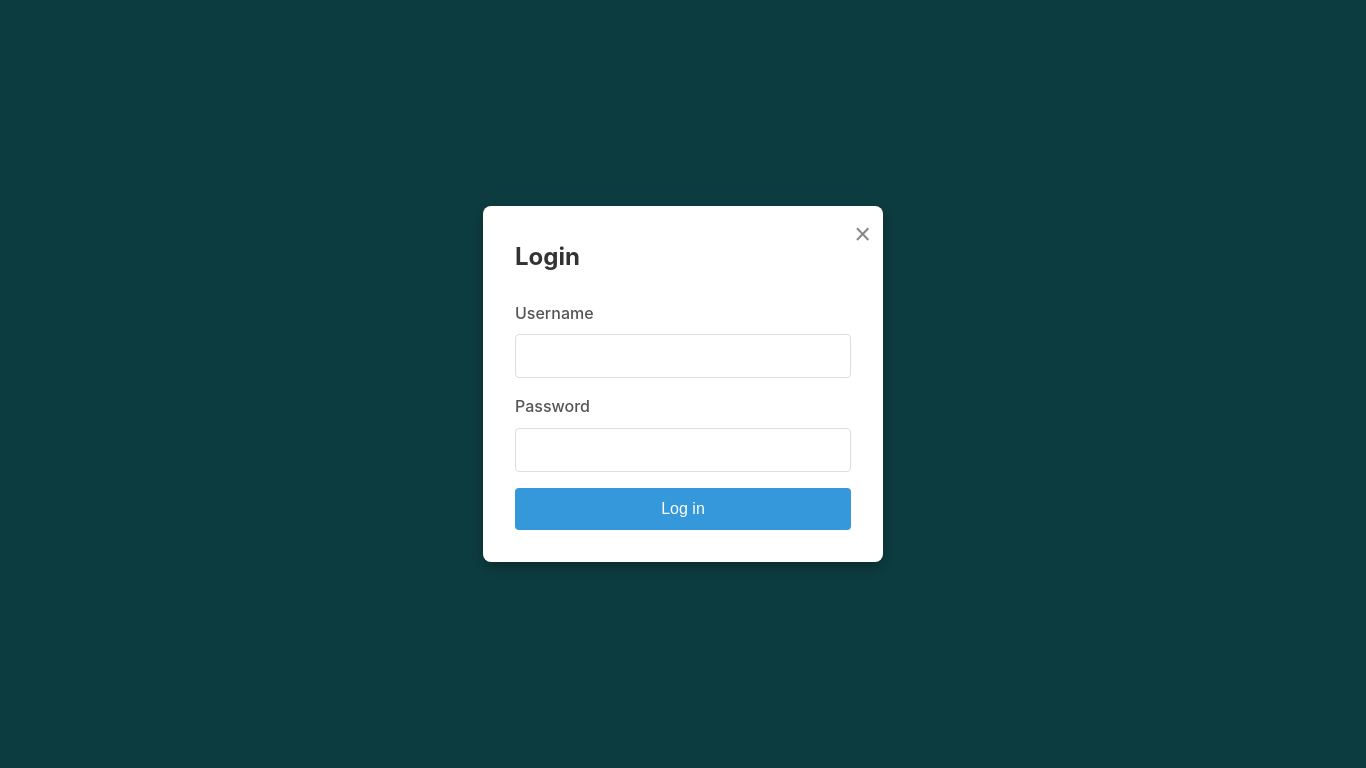
Scenario: Login › should show validation error if fields are empty
Click the button "Log in" at (683, 509), box [515,488,851,530]
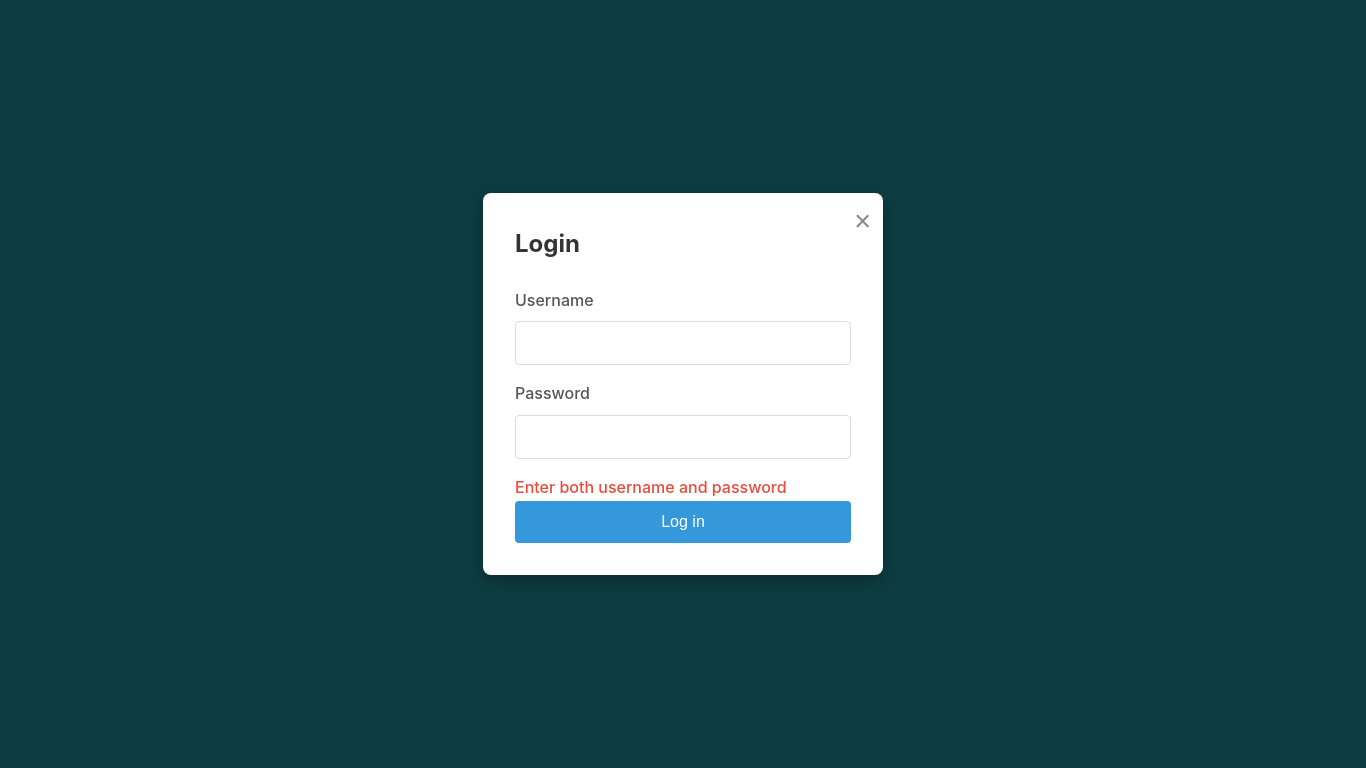
Check: the text "Enter both username and password" is shown, box [515,477,787,497]
